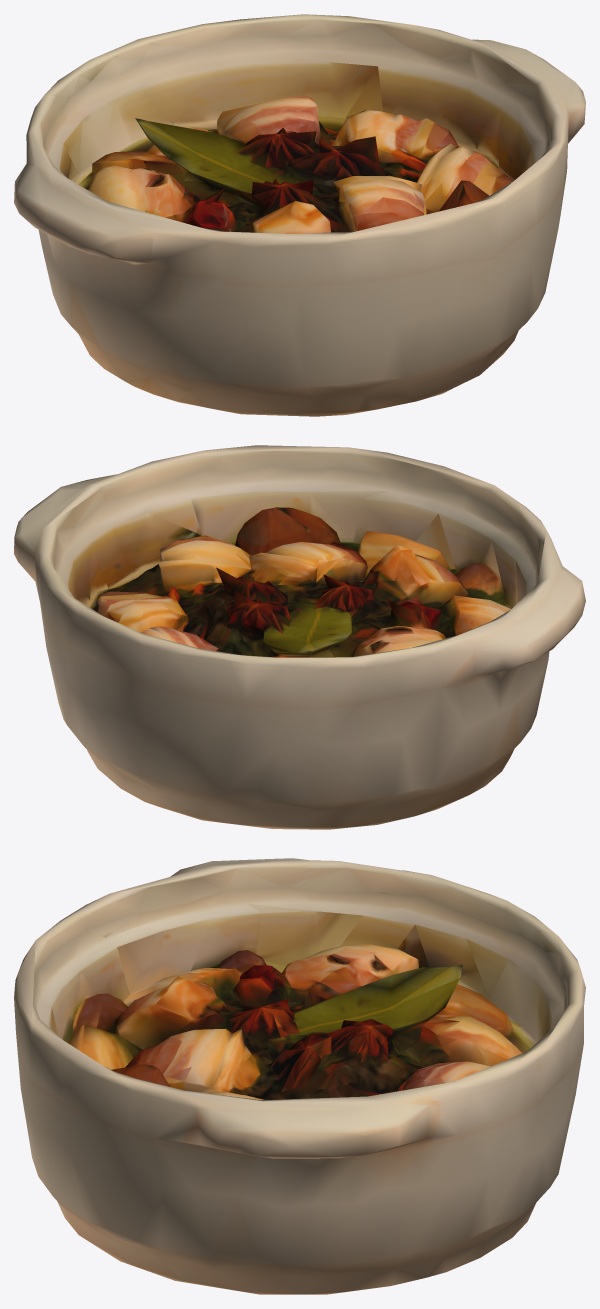
The model's file is c梅干菜肉.fbx.
3 views of the same model, one above another, from view 1: azimuth 30°, elevation 25°; view 2: azimuth 150°, elevation 25°; view 3: azimuth 270°, elevation 25° (orthographic). The views are drawn at different scales.
Visible parts, largest first — view 1: material; view 2: material; view 3: material.
Boxes of the visible parts, <box> form: material: <box>14,14,585,416</box>; material: <box>14,445,585,829</box>; material: <box>14,858,585,1294</box>.
Size of the model in its own units: 114 by 41.68 by 98.43.
Materials: 1 (1 with a texture image).
